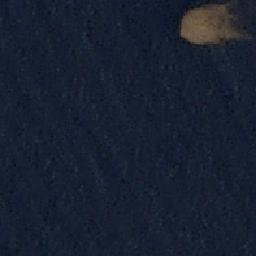debris: (175, 4, 250, 46)
